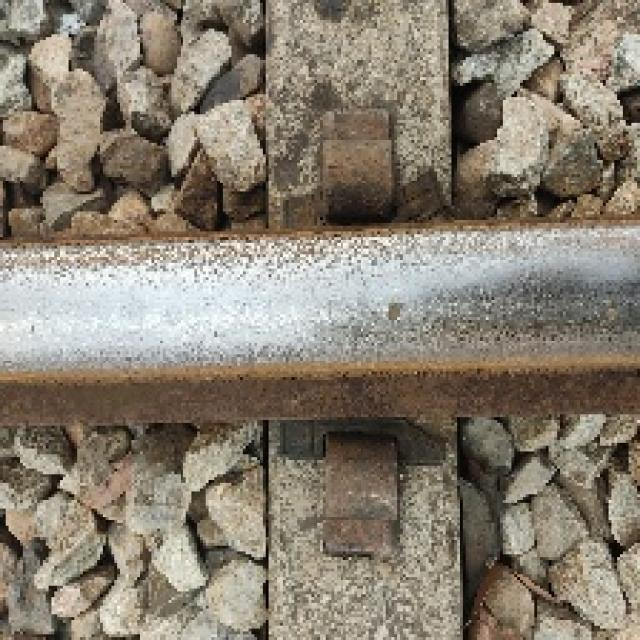Missing Fastener: (299, 411, 419, 581), (306, 104, 402, 217)
